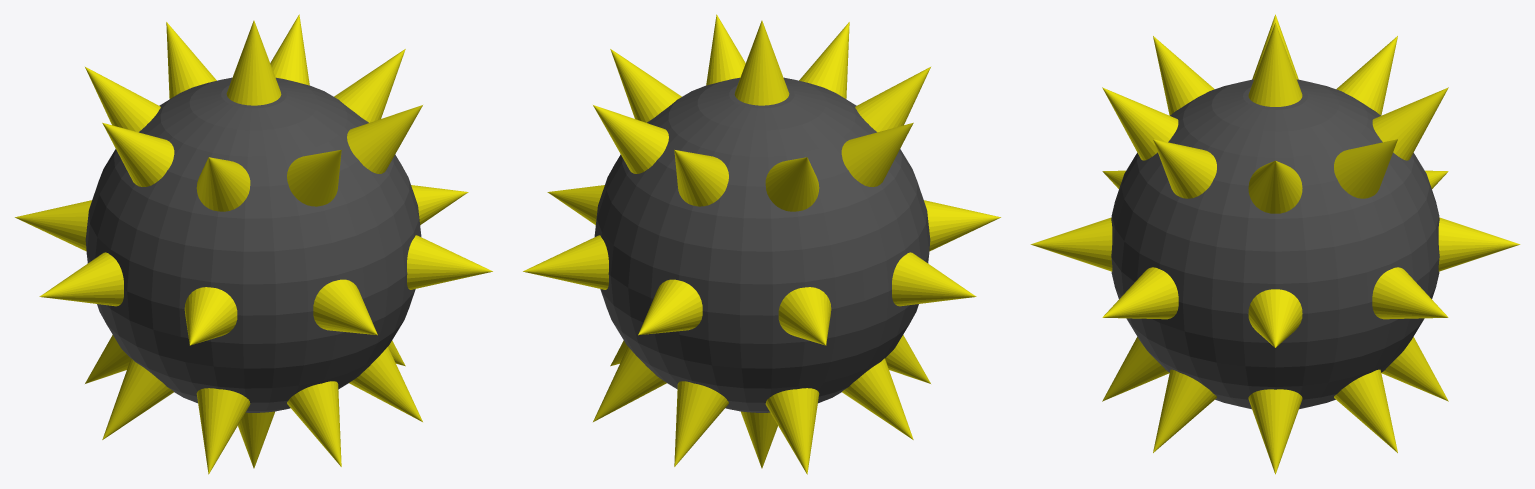
The model's file is spike_ball.fbx.
3 views of the same model, side by side, from view 1: azimuth 30°, elevation 25°; view 2: azimuth 150°, elevation 25°; view 3: azimuth 270°, elevation 25° (orthographic).
Parts seen in each view (by area): view 1: 球, 円錐.003, 円錐.001, 円錐.002, 円錐.004; view 2: 球, 円錐.003, 円錐.002, 円錐.004, 円錐.001; view 3: 球, 円錐.003, 円錐.001, 円錐.002, 円錐.004.
Boxes of the visible parts, x1,y1,x2,y2 form: 球: [85, 77, 421, 412]; 円錐.003: [85, 14, 422, 211]; 円錐.001: [166, 20, 377, 468]; 円錐.002: [15, 185, 492, 345]; 円錐.004: [85, 335, 422, 474]; 球: [594, 77, 930, 412]; 円錐.003: [593, 14, 930, 211]; 円錐.002: [523, 185, 1000, 345]; 円錐.004: [593, 335, 930, 474]; 円錐.001: [638, 20, 849, 468]; 球: [1111, 79, 1439, 409]; 円錐.003: [1102, 14, 1448, 213]; 円錐.001: [1030, 22, 1496, 401]; 円錐.002: [1102, 170, 1520, 347]; 円錐.004: [1153, 337, 1448, 474].
Bounding box in the file's own units: 2.94 × 2.94 × 2.94.
